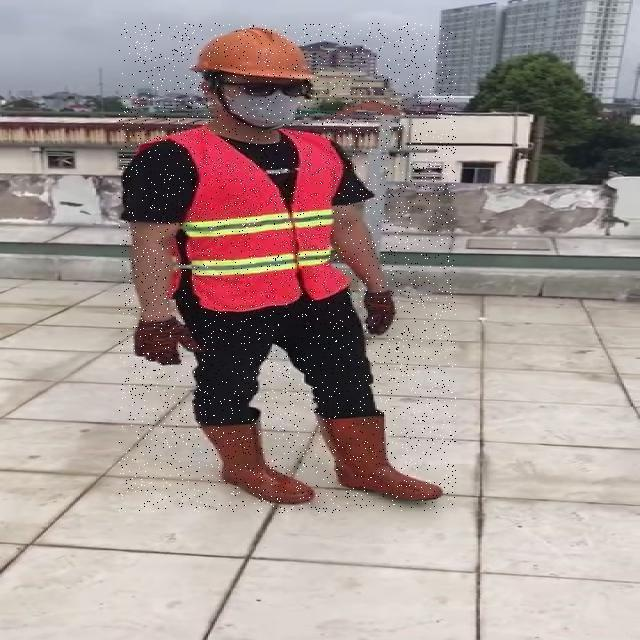gloves: (133, 314, 200, 366), (362, 288, 397, 337)
goggles: (214, 80, 313, 98)
helmet: (184, 27, 318, 85)
safety_vest: (165, 128, 351, 312)
